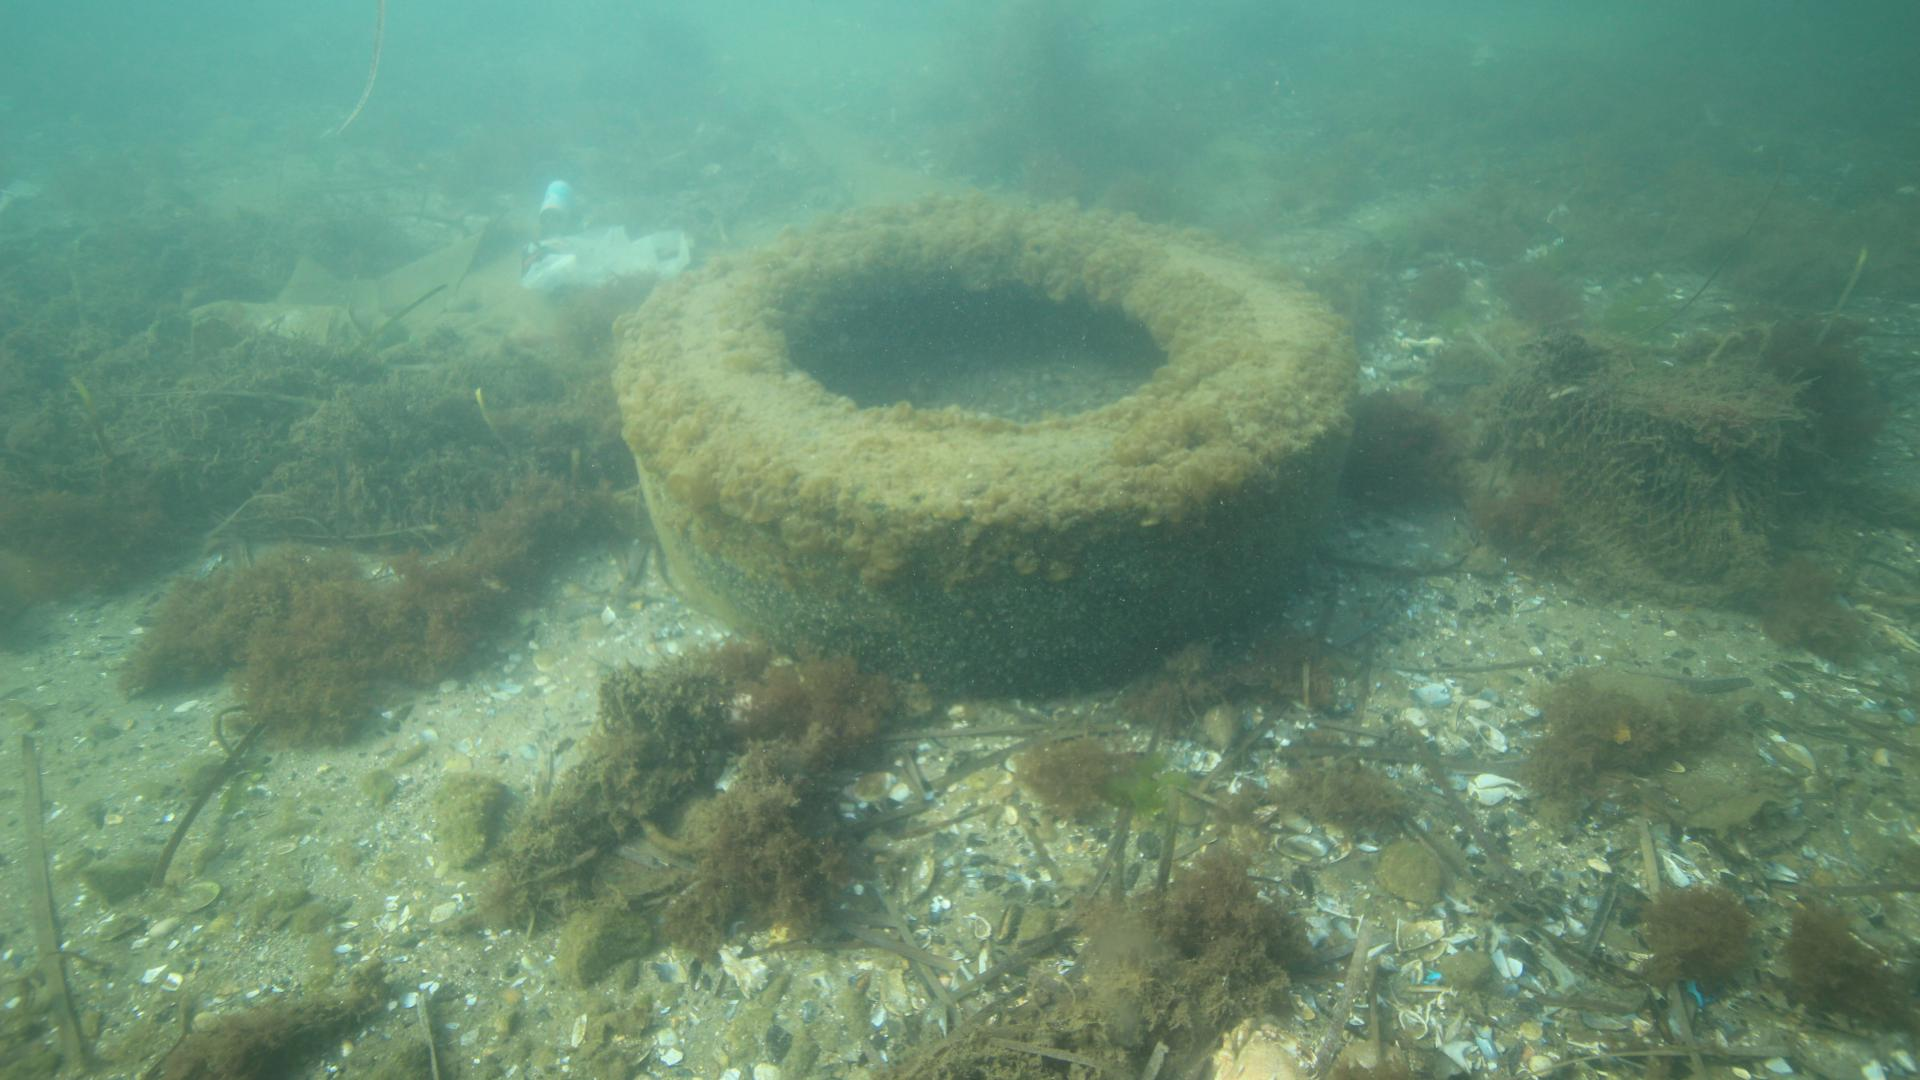tire: (624, 189, 1365, 699)
